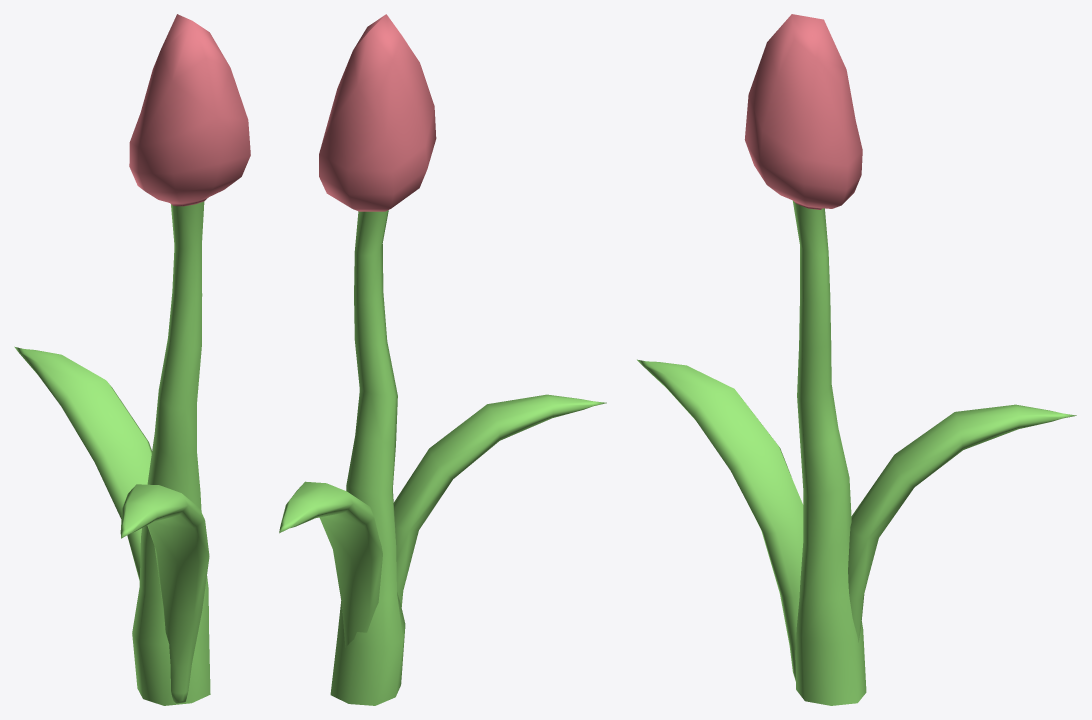
File: Tulpe.fbx
3 views of the same model, side by side, from view 1: azimuth 30°, elevation 25°; view 2: azimuth 150°, elevation 25°; view 3: azimuth 270°, elevation 25° (orthographic). The views are drawn at different scales.
Visible parts, largest first — view 1: wildOnion01.003; view 2: wildOnion01.003; view 3: wildOnion01.003.
Part boxes in pixels (box(x1,y1,x2,y2)): wildOnion01.003: box(14, 14, 250, 705); wildOnion01.003: box(279, 14, 606, 705); wildOnion01.003: box(637, 14, 1076, 705).
Bounding box in the file's own units: 0.0314 × 0.1002 × 0.0591.
